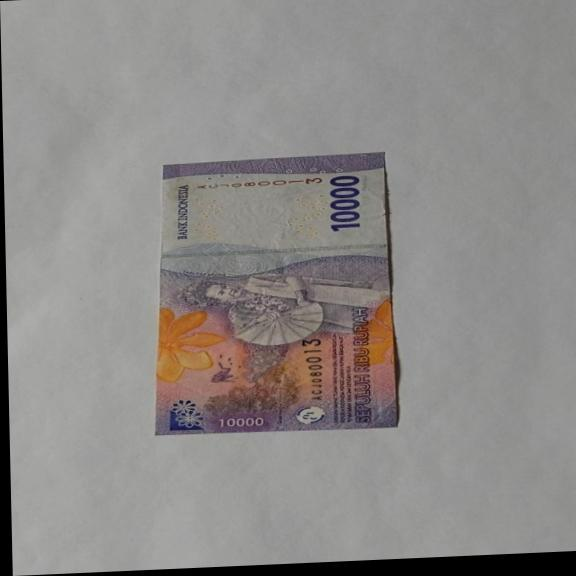Kertas: (148, 151, 400, 438)
